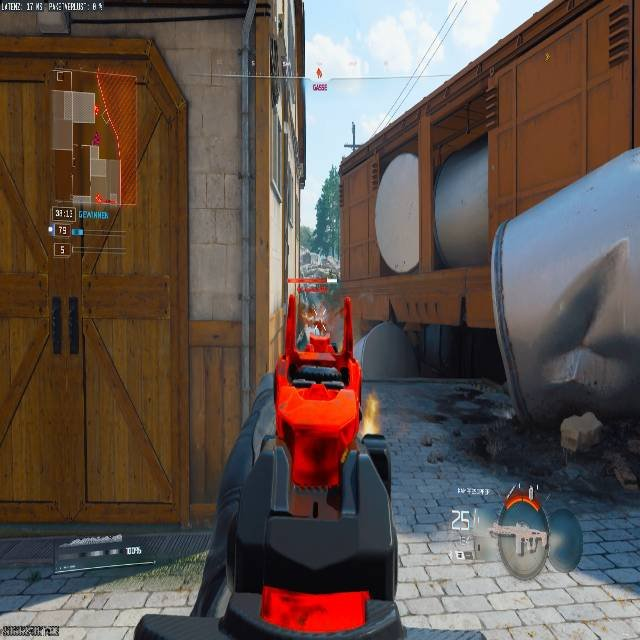player: (193, 336, 409, 638), (312, 300, 328, 335)
